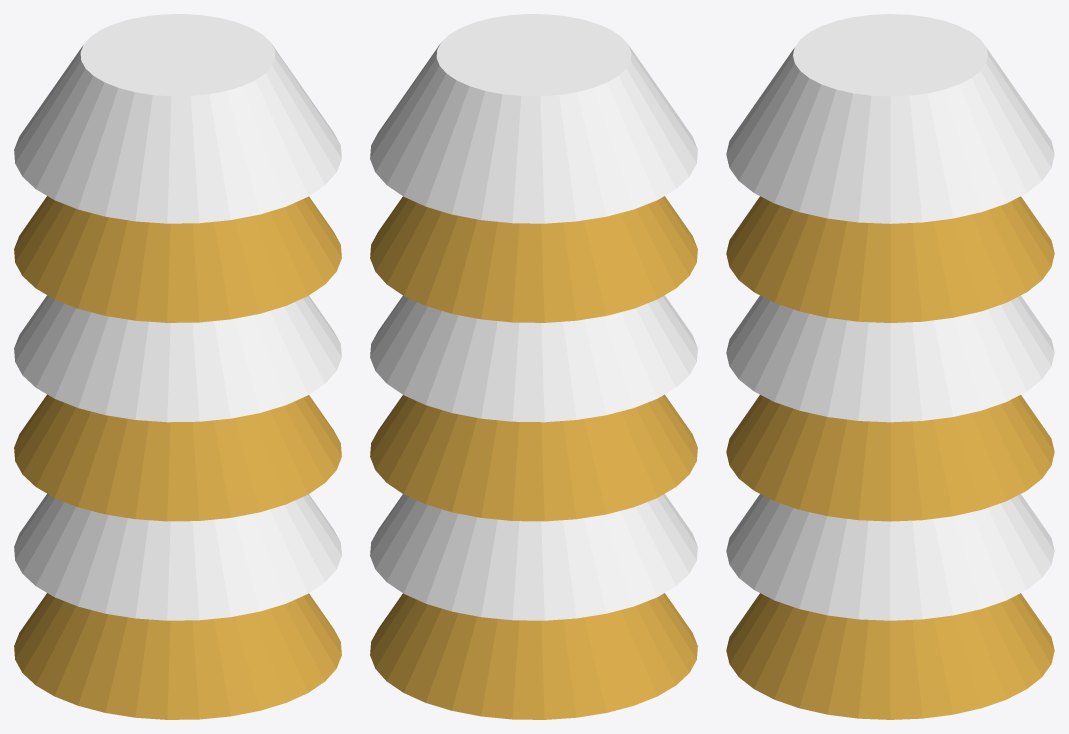
File: ArmCylinder1x2.fbx
The picture shows the model from 3 angles, left to right: view 1: azimuth 30°, elevation 25°; view 2: azimuth 150°, elevation 25°; view 3: azimuth 270°, elevation 25°; orthographic projection.
Visible parts, largest first — view 1: ArmCylinder1x2; view 2: ArmCylinder1x2; view 3: ArmCylinder1x2.
Part boxes in pixels (<box>): ArmCylinder1x2: <box>14,14,341,719</box>; ArmCylinder1x2: <box>370,14,697,719</box>; ArmCylinder1x2: <box>726,14,1054,719</box>.
Bounding box in the file's own units: 1 × 2 × 1.
